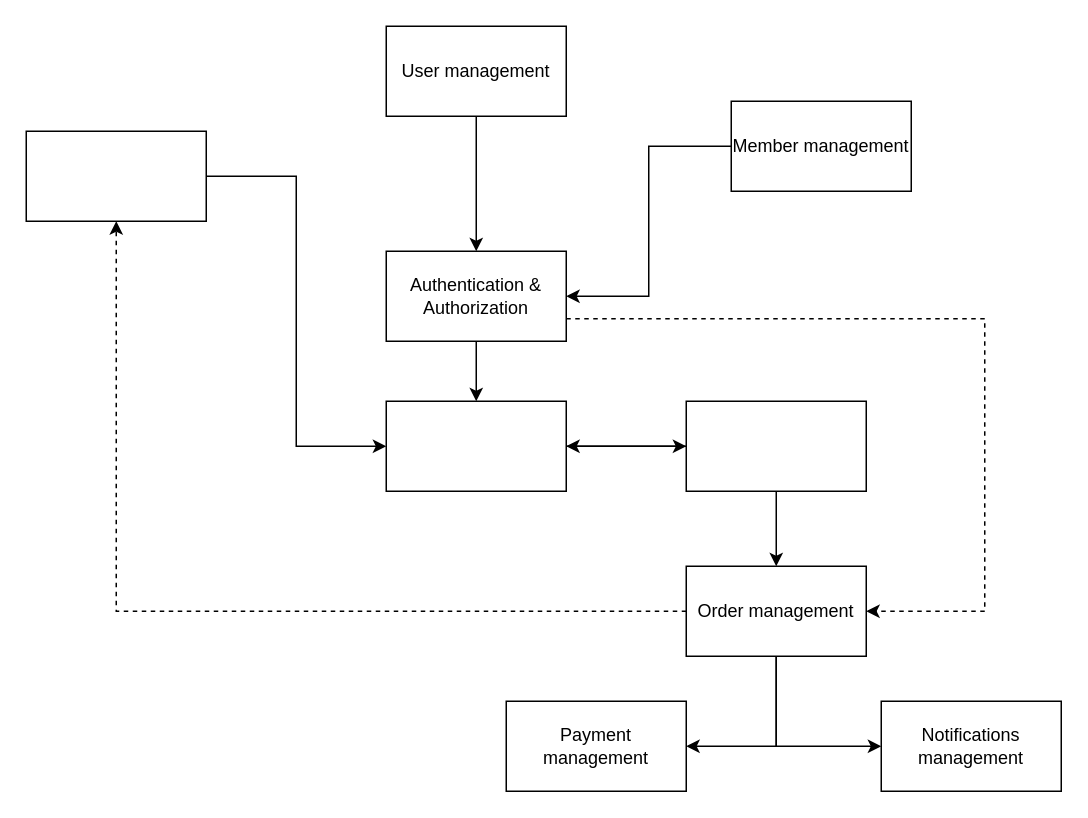
Some shapes in this 1088 by 818 pixel diagram are drawn without their labels. The centre of each missing label's shape, as x and y in pixels:
CART instance: (x=775, y=445)
Inventory management: (x=115, y=175)
Library instance: (x=475, y=445)
